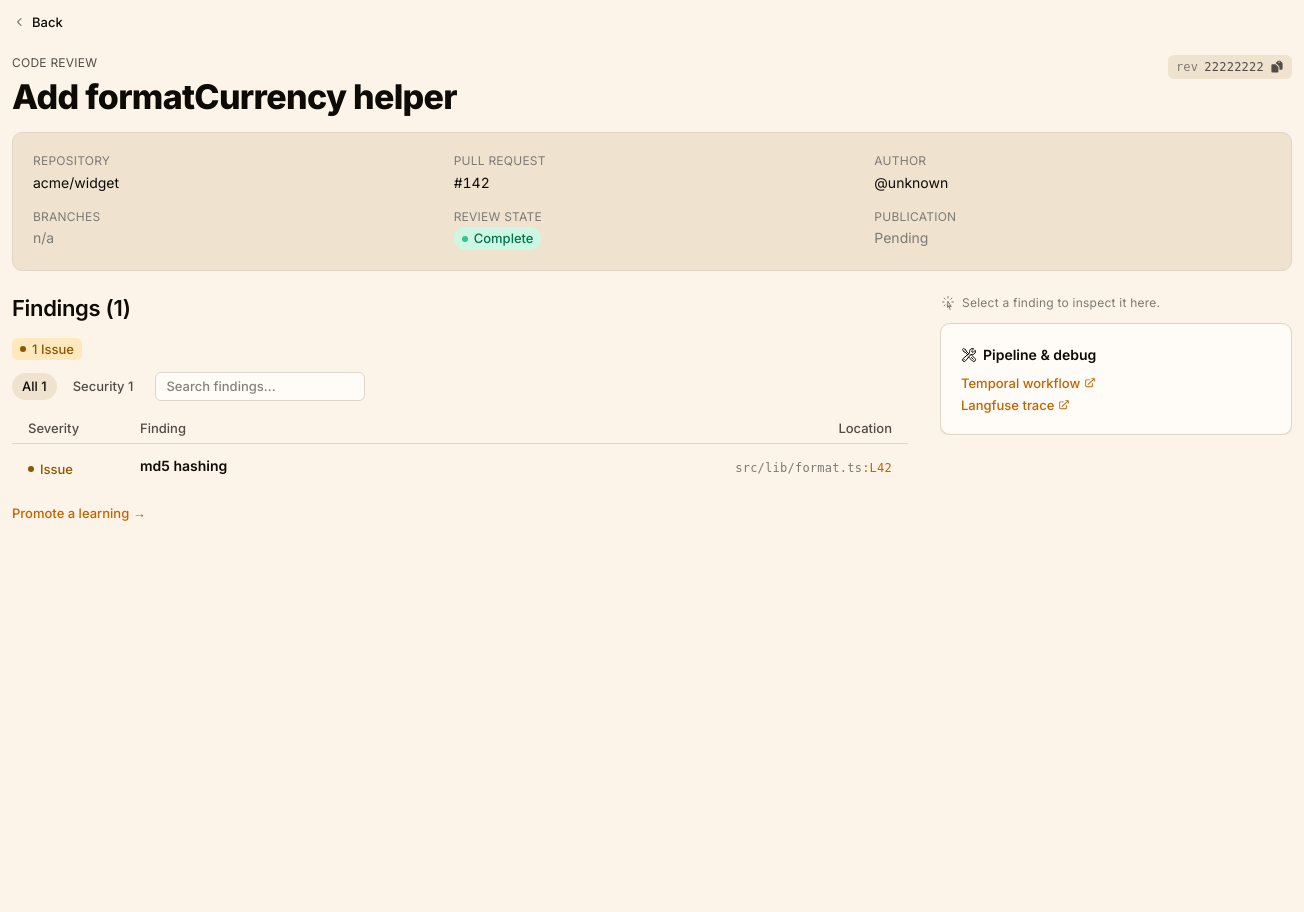
Test: ReviewDetailPage — wiring › P1 engineer value › expands a finding's Evidence to its citation
Click the text "md5 hashing" at (184, 465), box [140, 457, 227, 474]
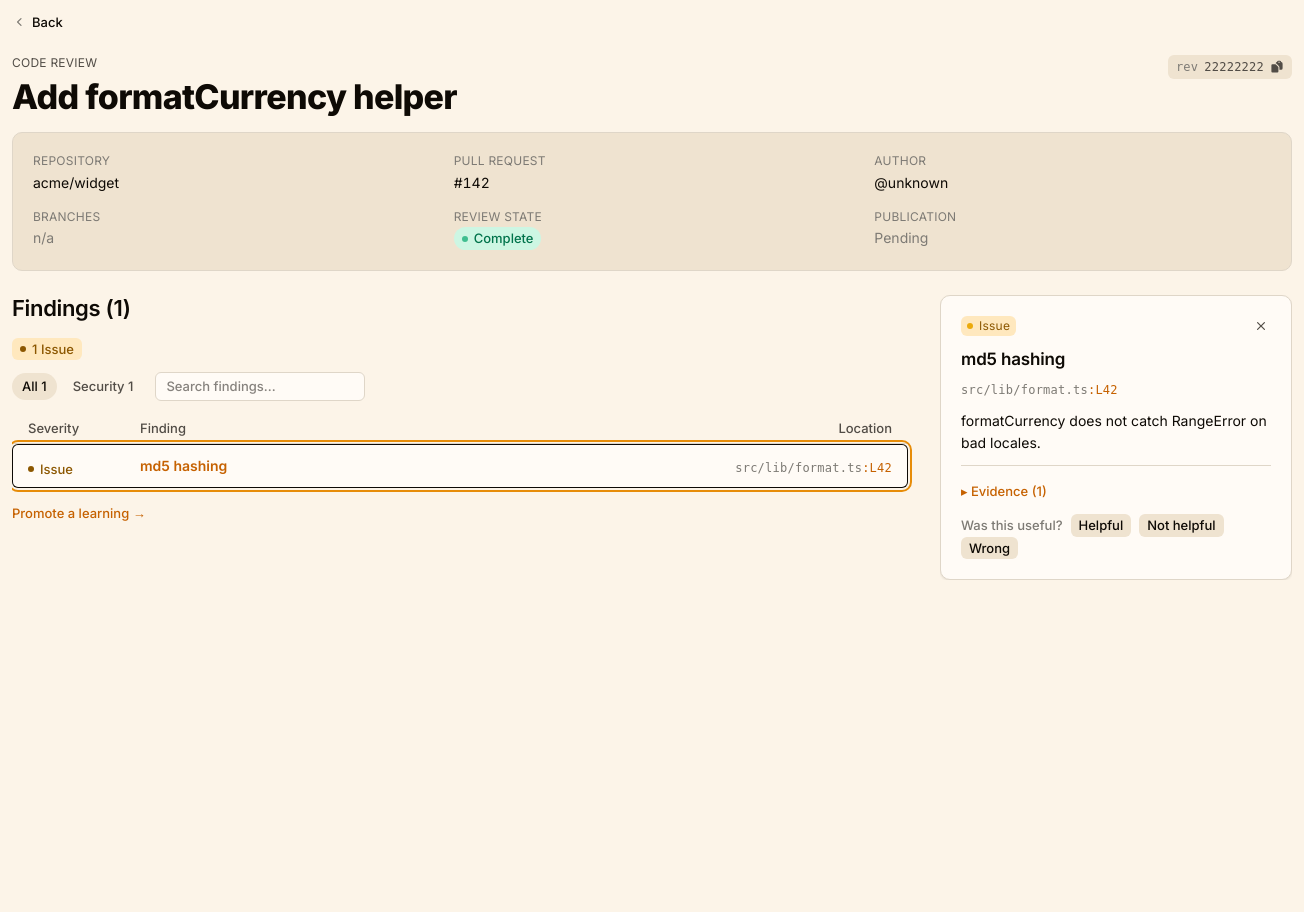
Check: the text "SEC-use-bcrypt-3f9a" is not shown
Expand evidence.
Click the button "▸ Evidence (1)" at (1004, 492), box [961, 482, 1047, 501]
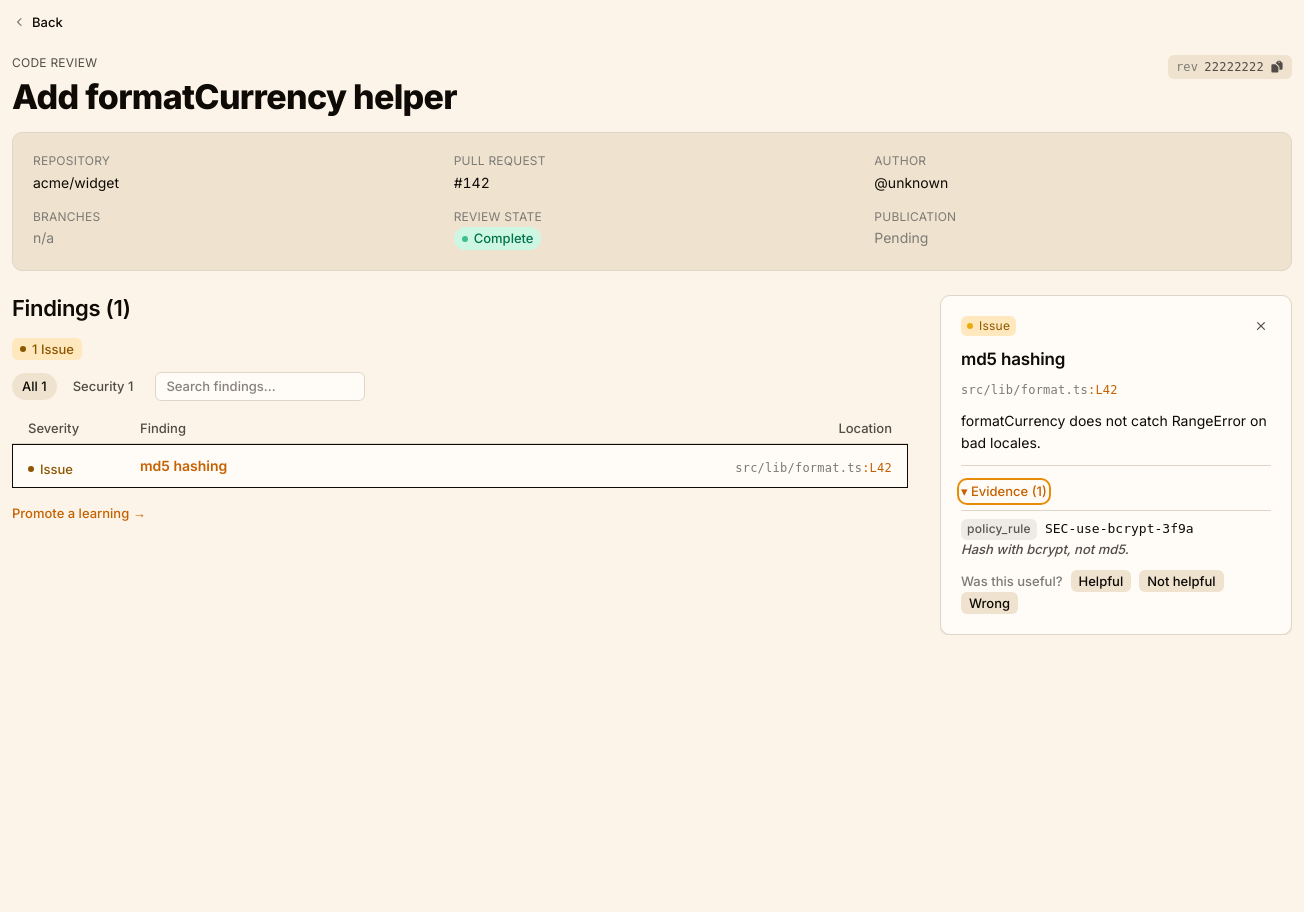
Check: the text "SEC-use-bcrypt-3f9a" is shown, box [1045, 520, 1194, 539]
